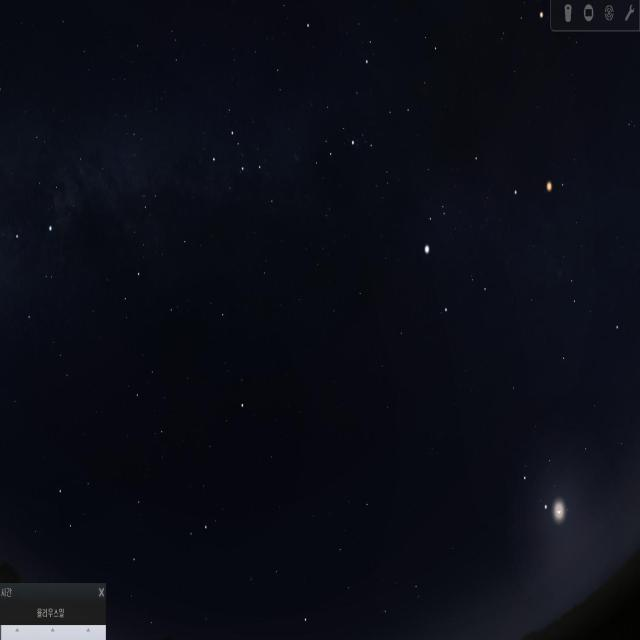cassiopeia: (203, 116, 274, 222)
moon: (536, 448, 586, 568)
